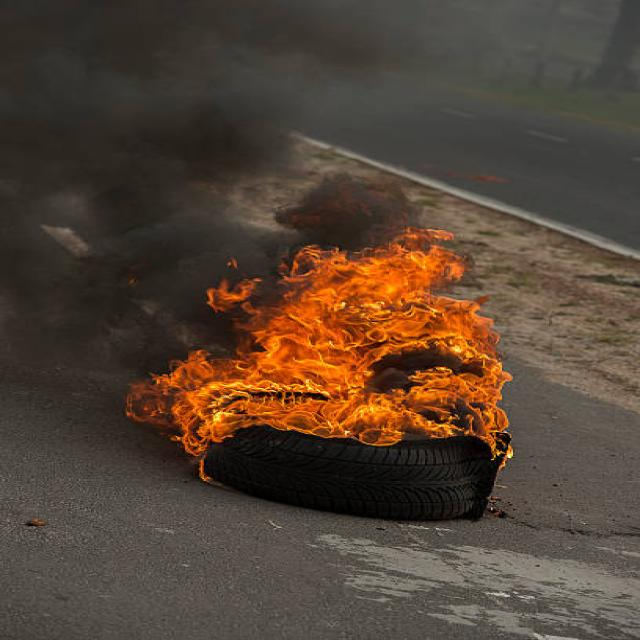fire: (204, 229, 512, 446), (122, 349, 265, 457)
